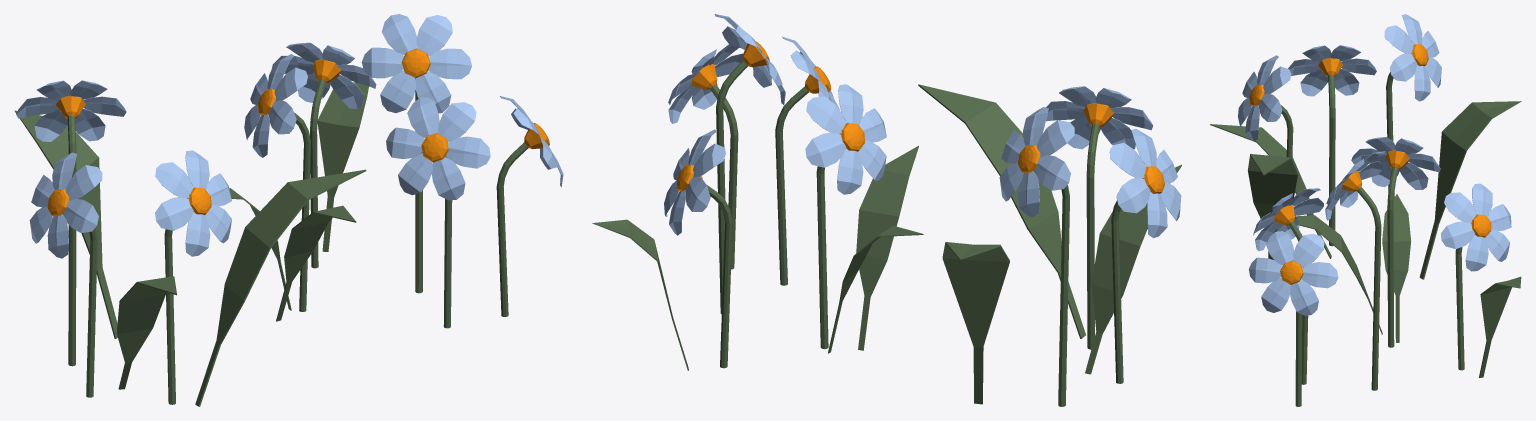
Rendered from Flowers.fbx.
3 renders of one model, left to right at view 1: azimuth 30°, elevation 25°; view 2: azimuth 150°, elevation 25°; view 3: azimuth 270°, elevation 25°, orthographic. The views are drawn at different scales.
Parts seen in each view (by area): view 1: Flowers; view 2: Flowers; view 3: Flowers.
Boxes of the visible parts, x1,y1,x2,y2 form: Flowers: (14, 14, 563, 406); Flowers: (592, 14, 1181, 406); Flowers: (1210, 14, 1521, 406).
Bounding box in the file's own units: 155 × 102 × 84.73.
